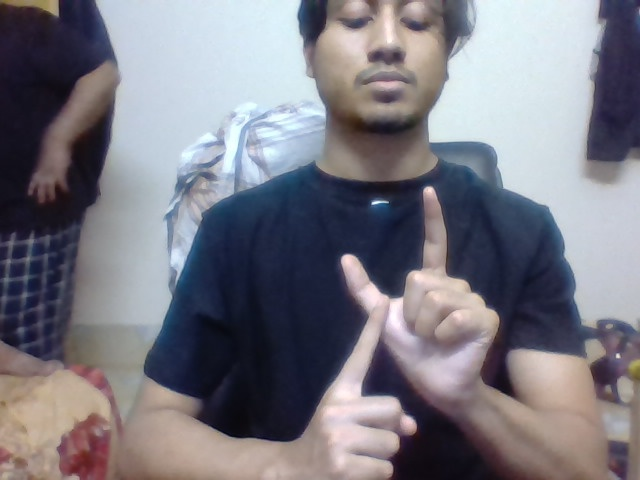Y: (323, 181, 458, 377)
